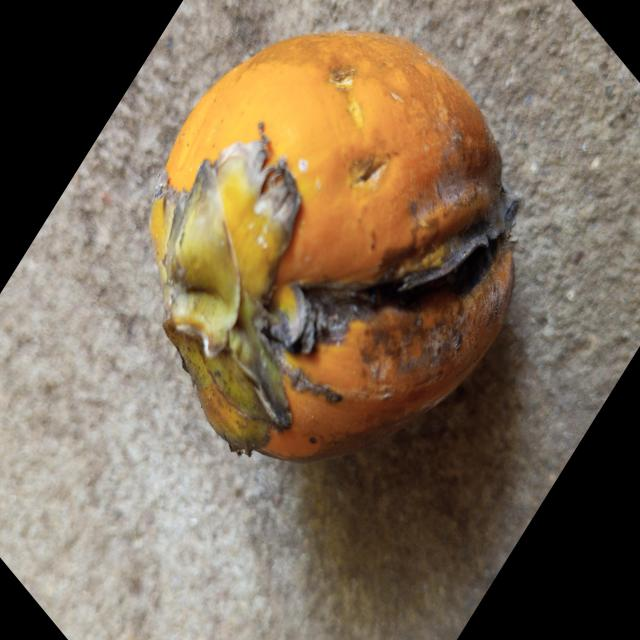damaged: (148, 32, 521, 464)
